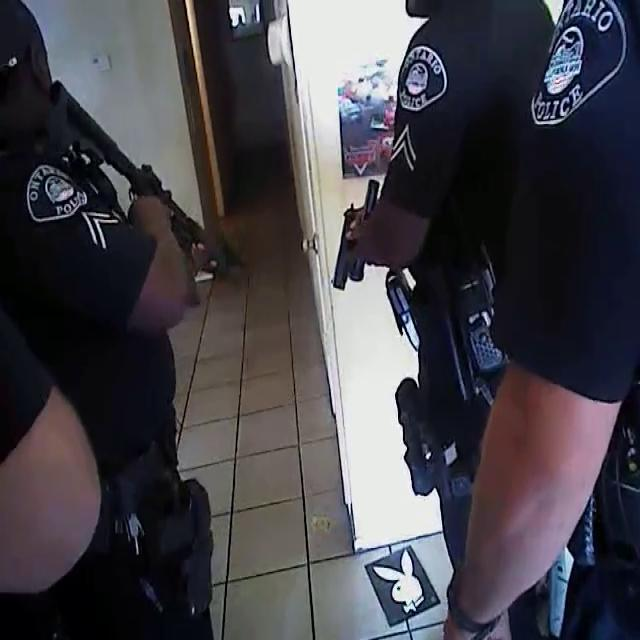gun: (29, 50, 253, 306), (311, 158, 383, 303)
